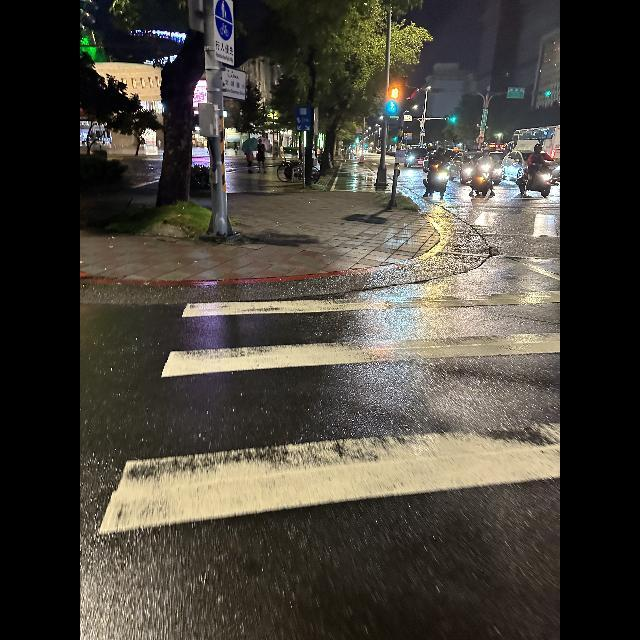sidewalk: (97, 287, 560, 537)
